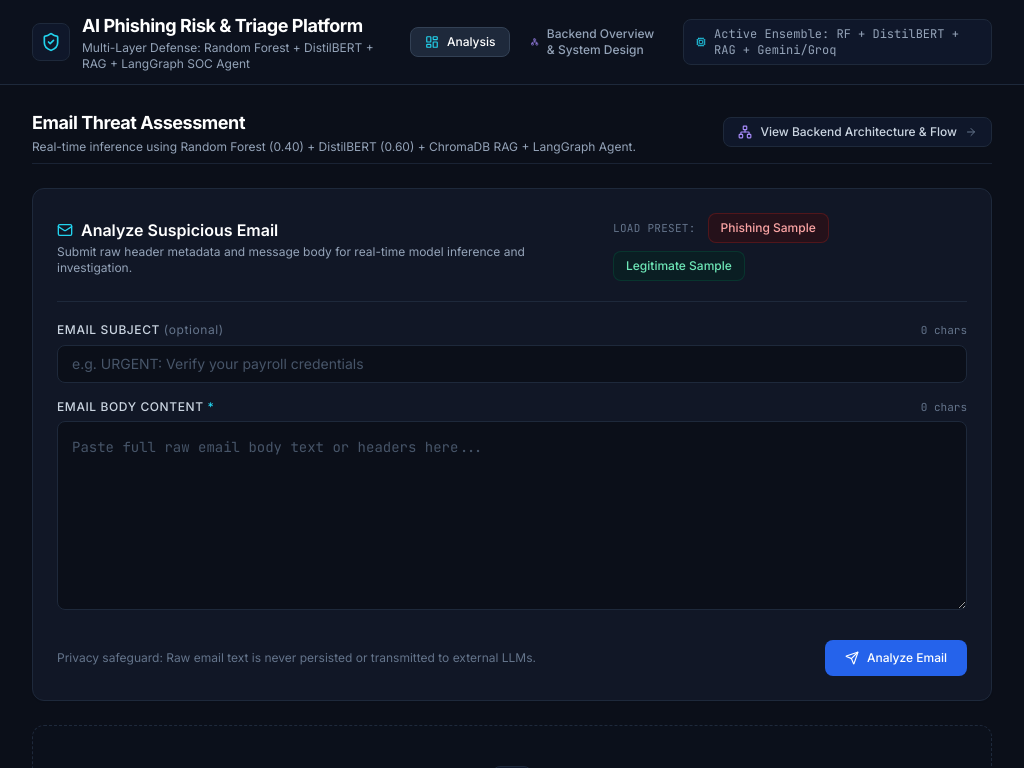
Scenario: App Root Integration Component › displays alert when API returns an error
The image size is (1024, 768).
Type "Suspicious message payload" into the text box labelled "Email Body Content *" at (512, 516), box [57, 421, 967, 610]
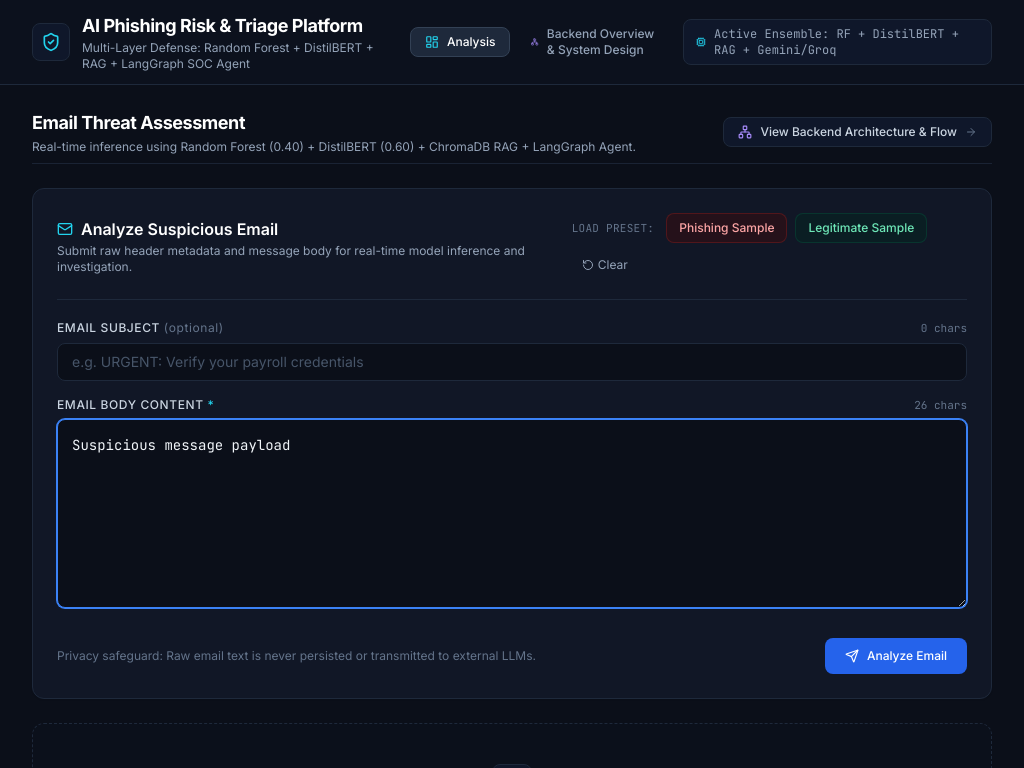
Click the button "Analyze Email" at (896, 656), box [825, 638, 967, 674]
(page scrolled)
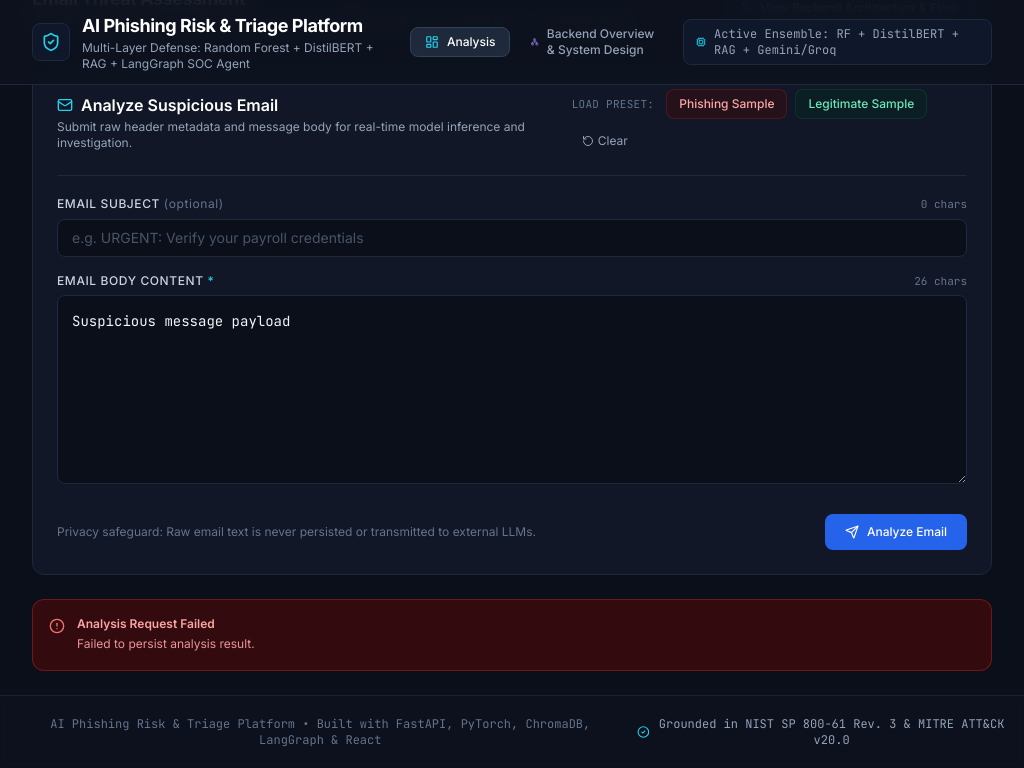
Result: the message "Analysis Request Failed Failed to persist analysis result." is shown at [32, 599, 992, 671]
Result: the heading "Analysis Request Failed" is shown at [77, 616, 215, 631]
Result: the text "Failed to persist analysis result." is shown at [77, 634, 255, 654]
